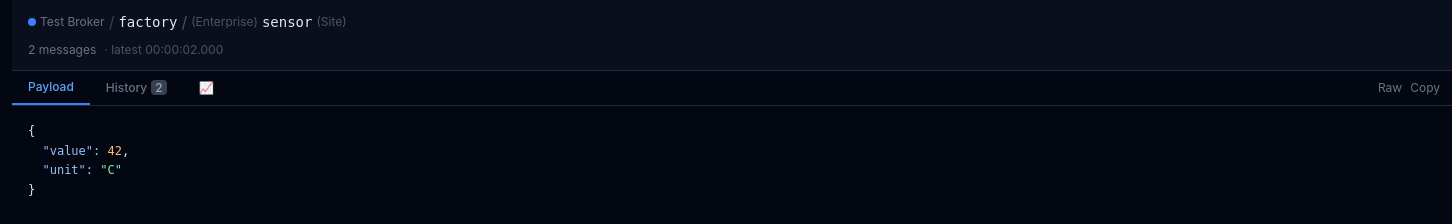
it: PayloadInspector — topic selected › switches to history tab
Click the button "history2" at point(136, 88), box [90,71,183,105]
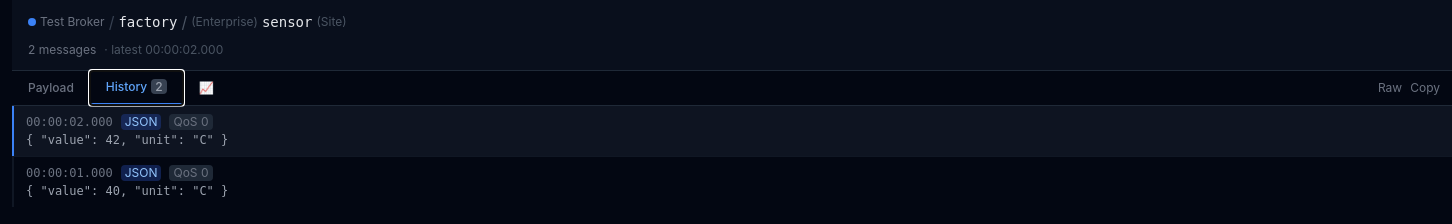
Check: the 1st text "JSON" is shown, box [121,114,162,130]
